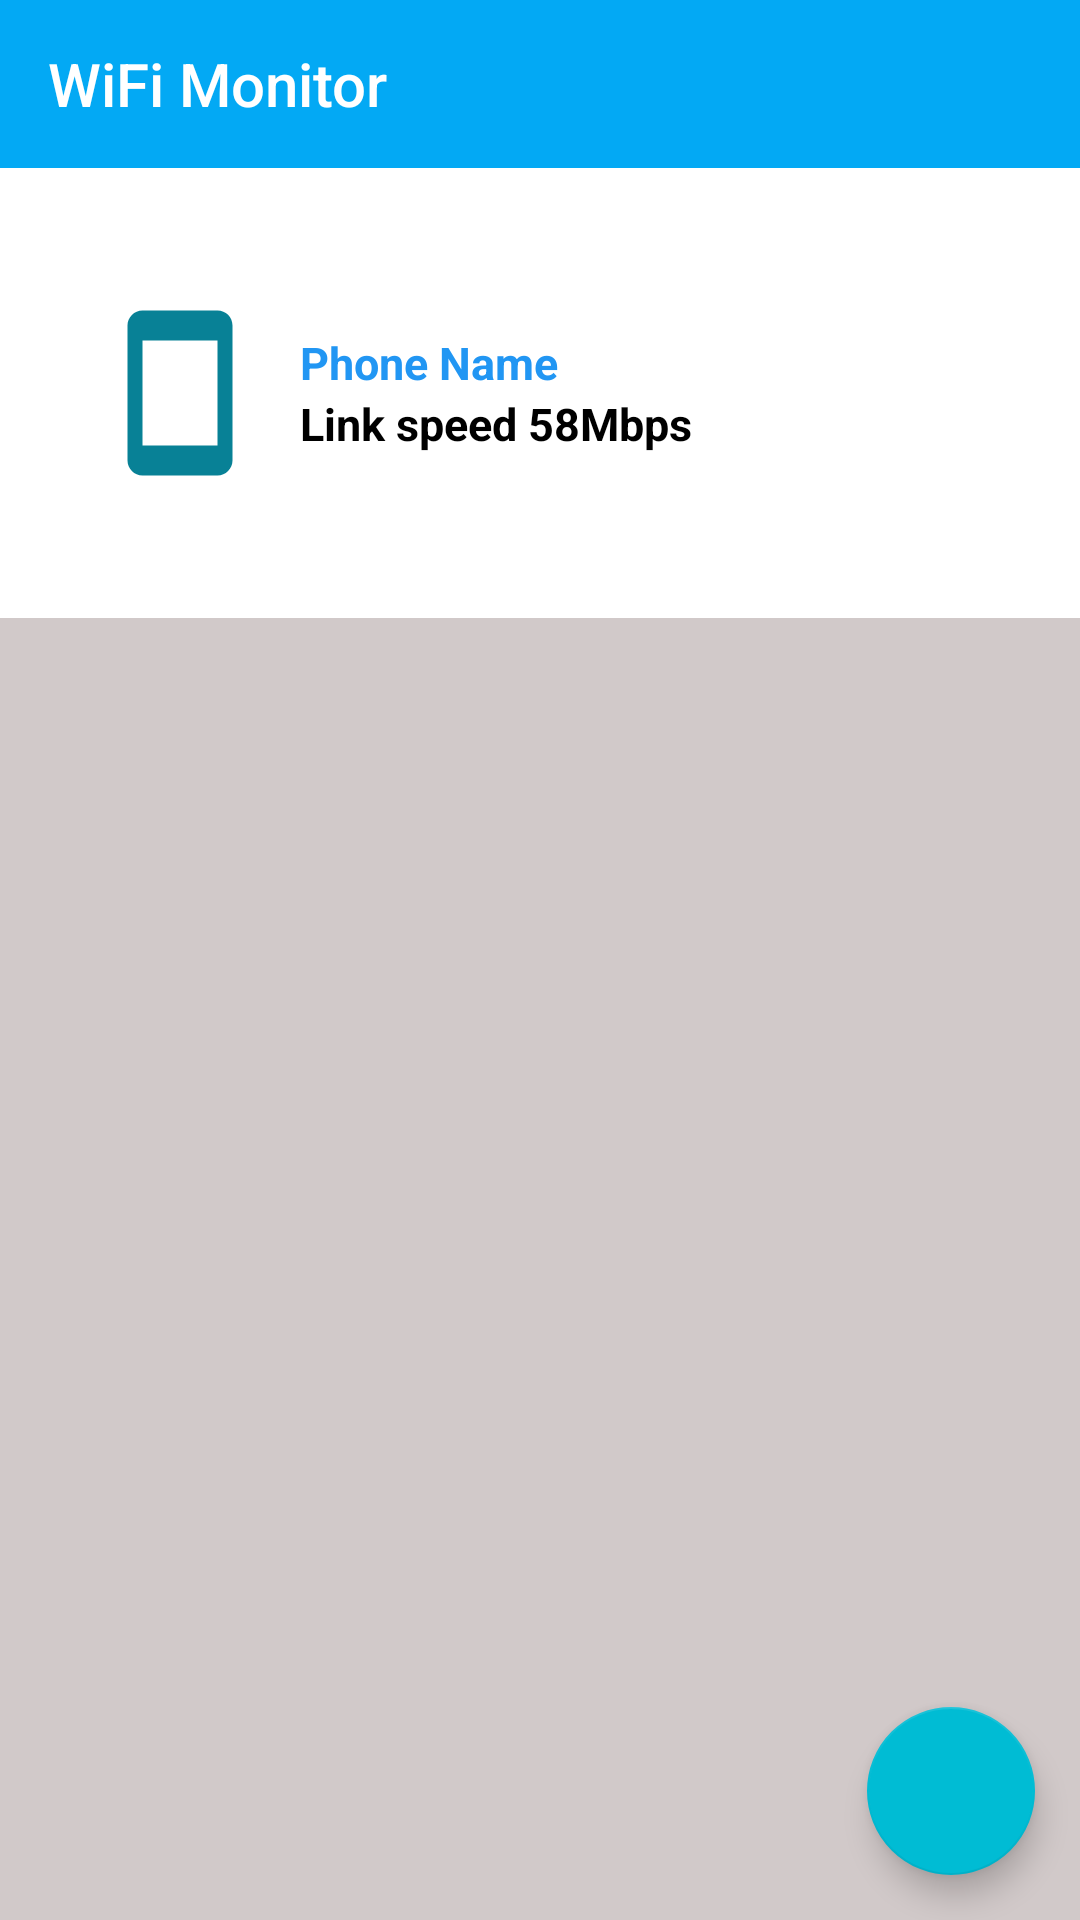

Screen size 1080px×1920px. Icon name, then its box in pixels as (x1, y1, x2, y2):
smartphone: (127, 310, 233, 476)
